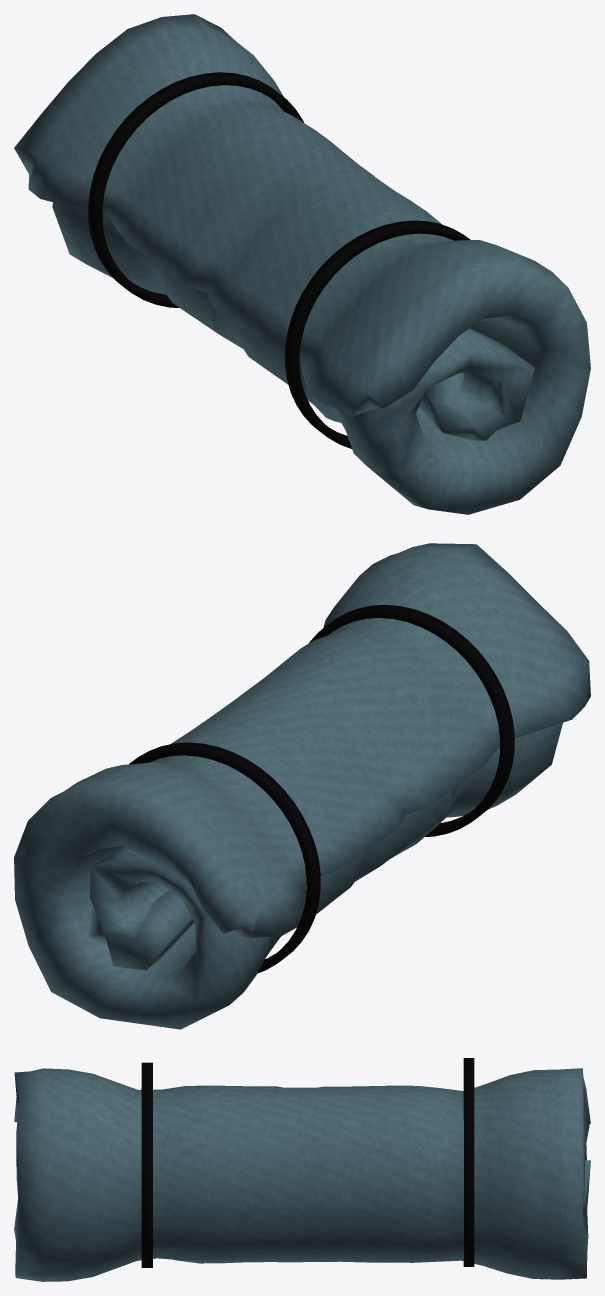
File: WorldItem_SleepingbagRoll.fbx
The picture shows the model from 3 angles, top to bottom: view 1: azimuth 30°, elevation 25°; view 2: azimuth 150°, elevation 25°; view 3: azimuth 270°, elevation 25°; orthographic projection. The views are drawn at different scales.
Parts seen in each view (by area): view 1: Left Strap; view 2: Left Strap; view 3: Left Strap.
Boxes of the visible parts, left/top/right/bottom form: Left Strap: left=14, top=14, right=590, bottom=514; Left Strap: left=14, top=543, right=590, bottom=1029; Left Strap: left=14, top=1058, right=590, bottom=1281.
Size of the model in its own units: 0.1689 by 0.1549 by 0.4024.
